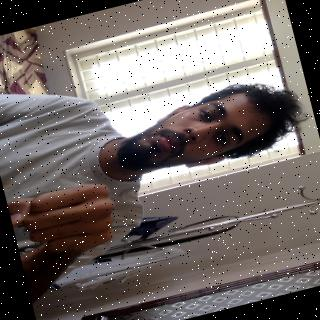Yes: (7, 170, 148, 282)
